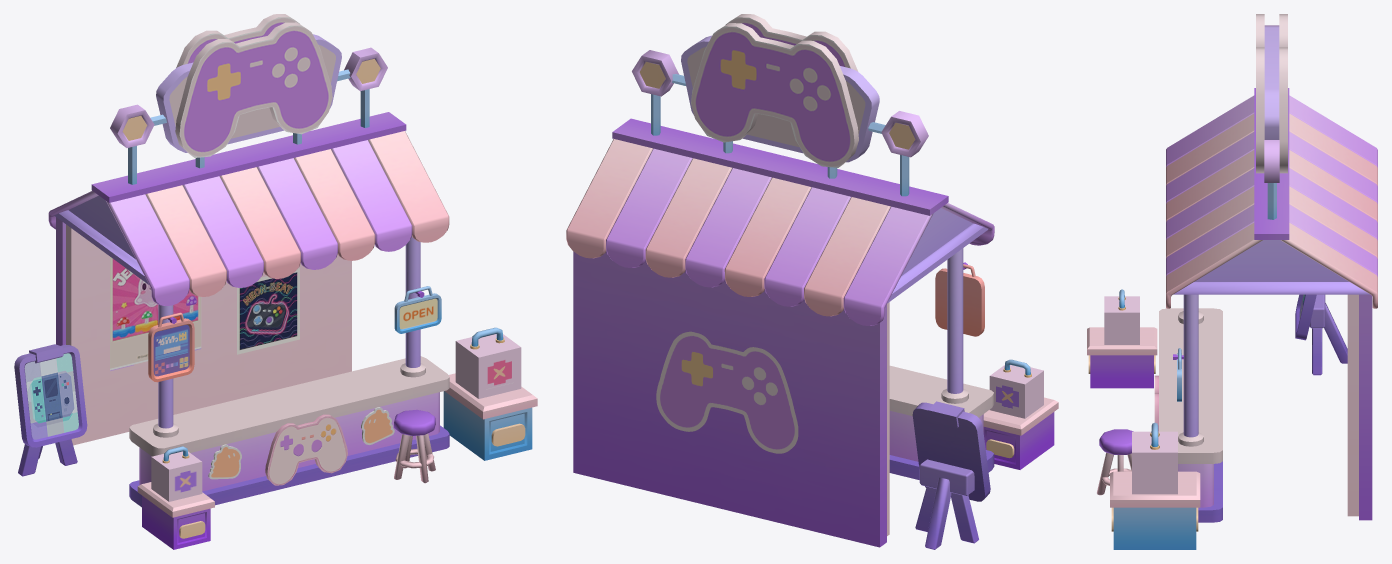
Rendered from GameStore.fbx.
The picture shows the model from 3 angles, left to right: view 1: azimuth 30°, elevation 25°; view 2: azimuth 150°, elevation 25°; view 3: azimuth 270°, elevation 25°; orthographic projection. The views are drawn at different scales.
Parts seen in each view (by area): view 1: GameStore, GameStoreBox_01, GameStore_Lipai, GameStoreBox_02, GameStore_Chair; view 2: GameStore, GameStore_Icon, GameStore_Lipai, GameStoreBox_02; view 3: GameStore, GameStoreBox_01, GameStoreBox_02, GameStore_Lipai, GameStore_Chair.
Part boxes in pixels (x1,y1,x2,y2): GameStore: (48, 14, 449, 507); GameStoreBox_01: (443, 327, 537, 460); GameStore_Lipai: (14, 344, 87, 476); GameStoreBox_02: (137, 446, 214, 549); GameStore_Chair: (394, 409, 435, 483); GameStore: (566, 14, 994, 547); GameStore_Icon: (656, 331, 798, 453); GameStore_Lipai: (912, 401, 990, 549); GameStoreBox_02: (983, 359, 1058, 469); GameStore: (1154, 14, 1377, 522); GameStoreBox_01: (1110, 422, 1200, 549); GameStoreBox_02: (1087, 289, 1157, 388); GameStore_Lipai: (1295, 294, 1347, 375); GameStore_Chair: (1097, 429, 1133, 495).
Bounding box in the file's own units: 471 × 447 × 282.
